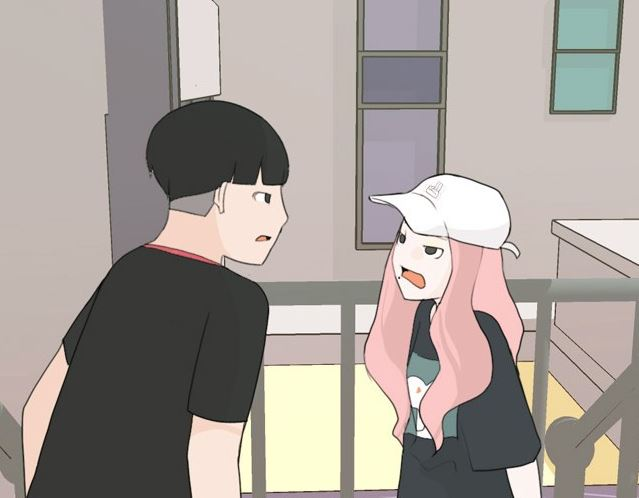hat: (366, 168, 515, 254)
